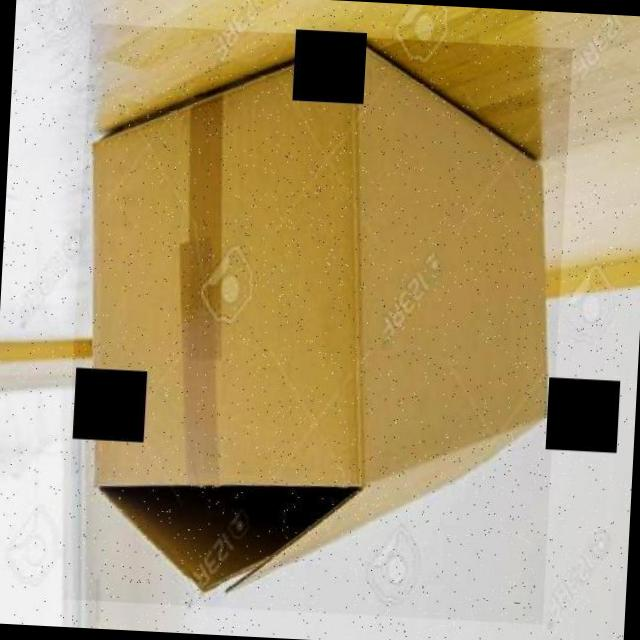box: (61, 23, 574, 624)
